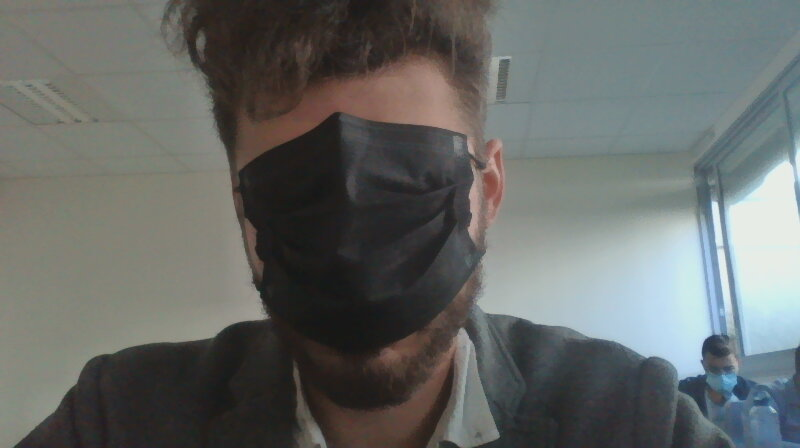with_incorrect_mask: (228, 75, 487, 381)
